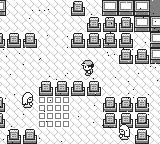main: (81, 60, 94, 75)
no-caminable: (70, 16, 150, 64), (102, 1, 160, 64), (102, 96, 150, 143), (38, 80, 101, 96), (1, 32, 38, 48), (7, 129, 37, 143), (69, 1, 86, 16), (1, 96, 6, 128), (150, 0, 160, 16), (0, 0, 6, 16)
npc: (118, 125, 131, 140), (22, 93, 34, 108)
recuperarse: (38, 96, 69, 127)
